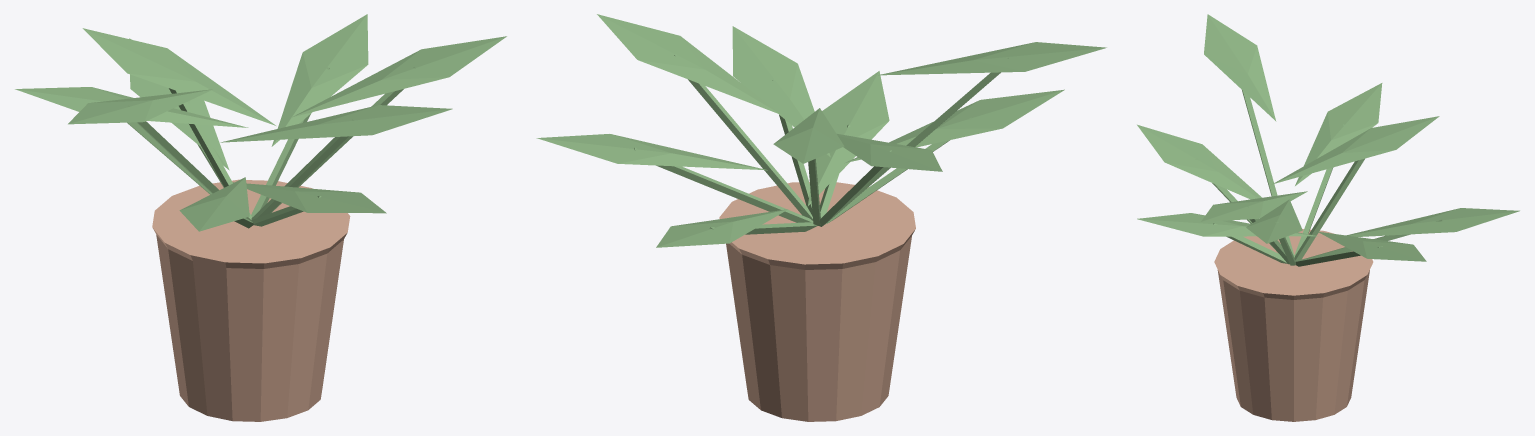
File: plant.glb
3 views of the same model, side by side, from view 1: azimuth 30°, elevation 25°; view 2: azimuth 150°, elevation 25°; view 3: azimuth 270°, elevation 25° (orthographic). The views are drawn at different scales.
Visible parts, largest first — view 1: plant_pot, plant_plant; view 2: plant_plant, plant_pot; view 3: plant_plant, plant_pot.
Boxes of the visible parts, bbox=[...] form: plant_pot: bbox=[152, 179, 350, 421]; plant_plant: bbox=[15, 14, 506, 231]; plant_plant: bbox=[536, 14, 1106, 247]; plant_pot: bbox=[719, 182, 915, 421]; plant_plant: bbox=[1137, 14, 1519, 266]; plant_pot: bbox=[1214, 229, 1373, 421].
Bounding box in the file's own units: 1.38 × 1.01 × 1.21.
